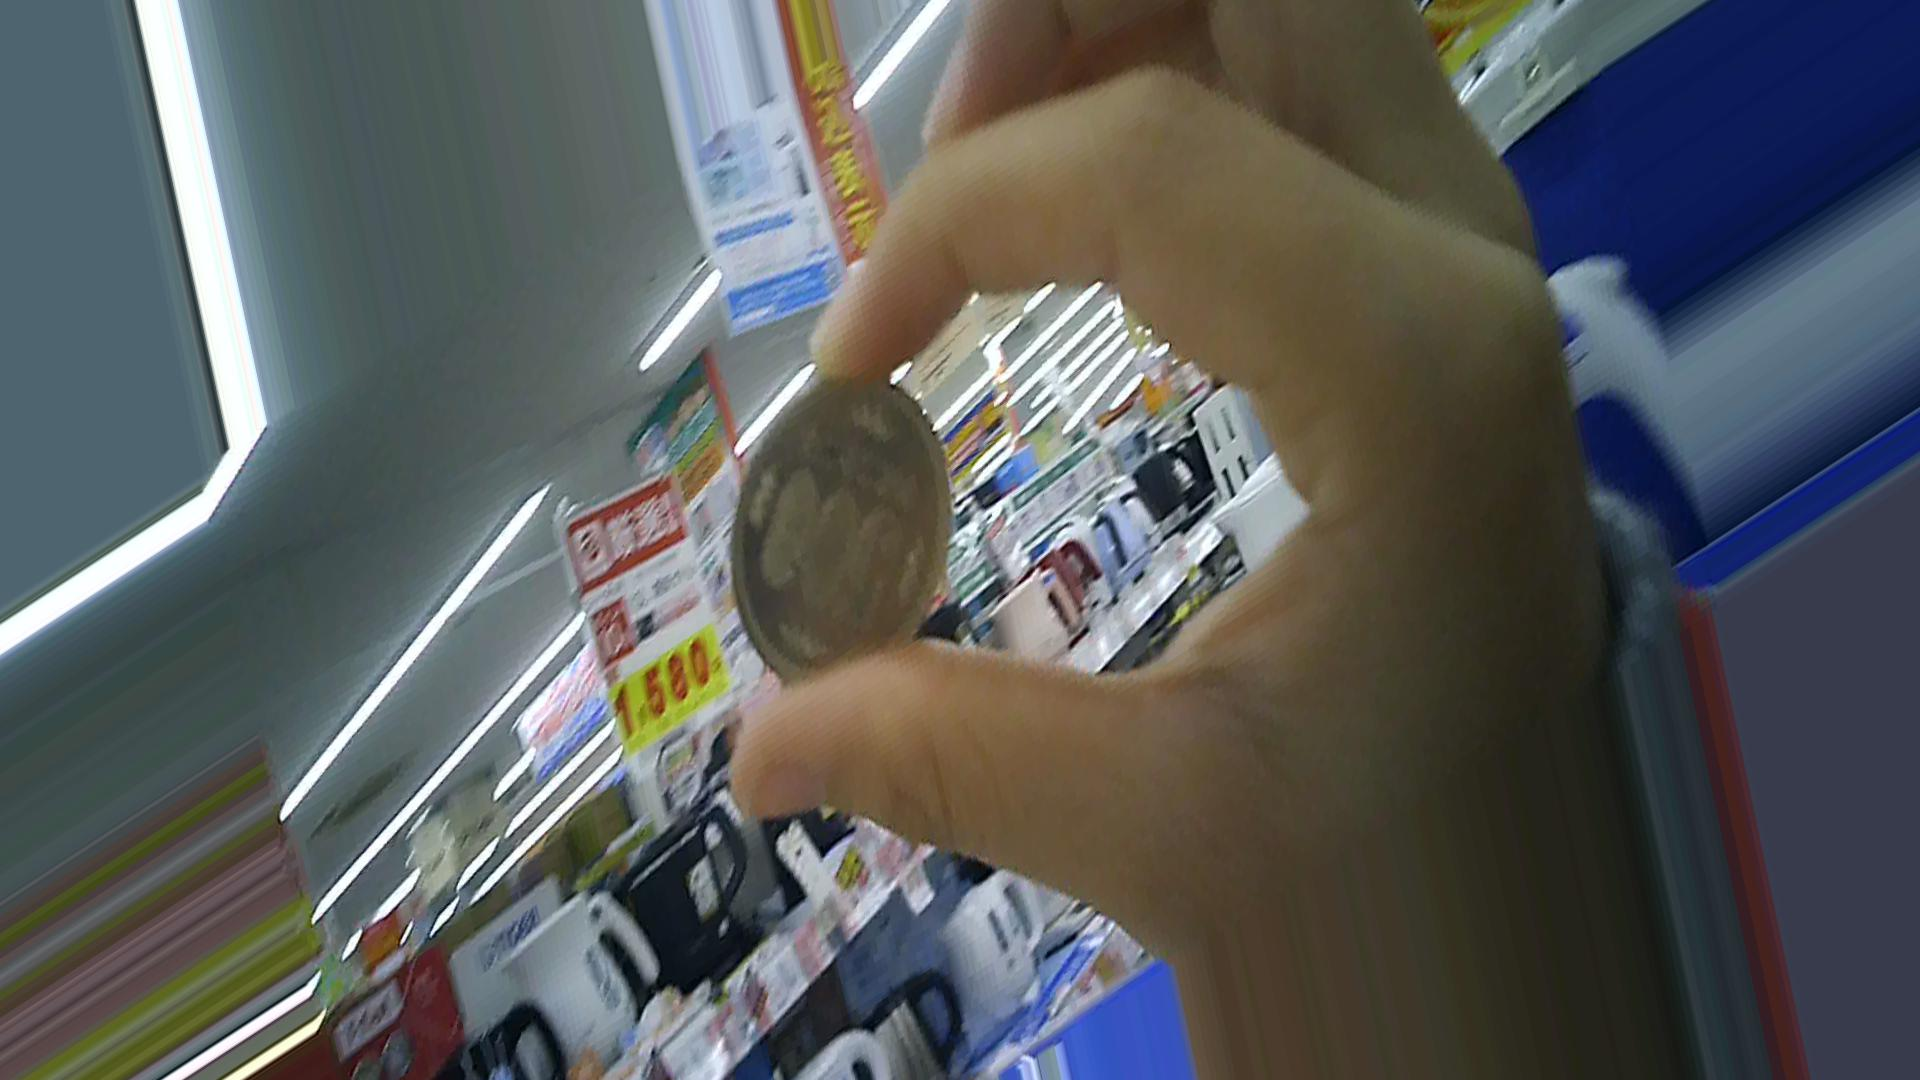500 Yen: (723, 378, 952, 675)
